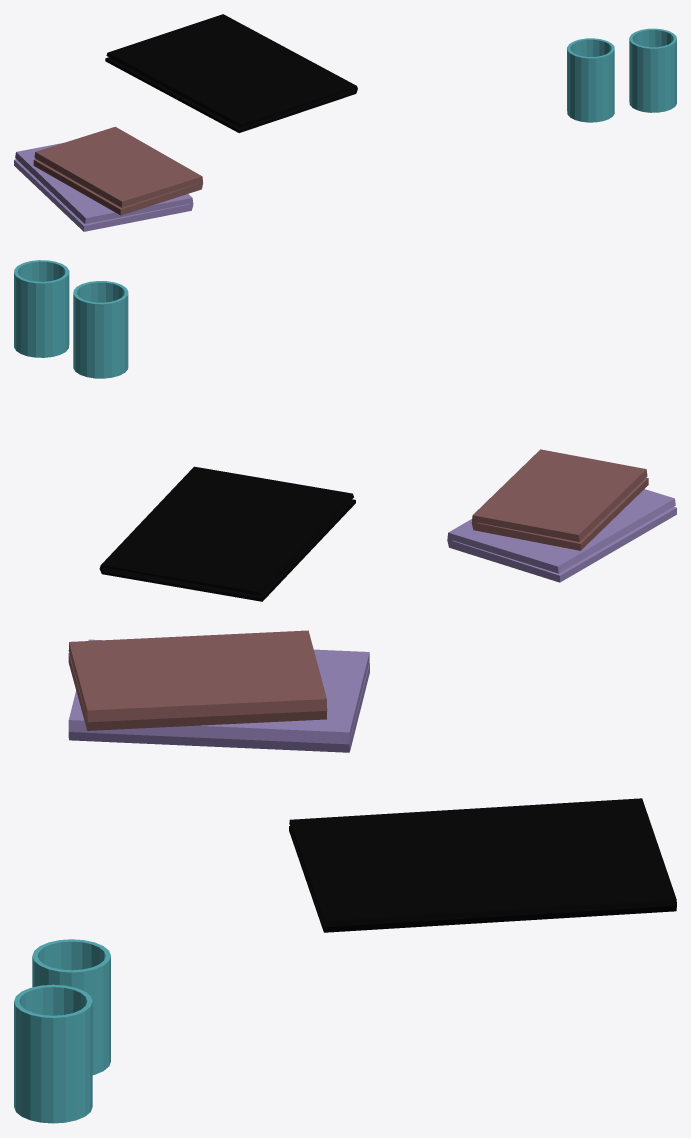
The model's file is desk misc 2.fbx.
3 renders of one model, top to bottom at view 1: azimuth 30°, elevation 25°; view 2: azimuth 150°, elevation 25°; view 3: azimuth 270°, elevation 25°, orthographic. The views are drawn at different scales.
Visible parts, largest first — view 1: books.002, books, books.001, cup, cup.001; view 2: books.002, books, books.001, cup, cup.001; view 3: books.002, books, cup.001, books.001, cup.
Boxes of the visible parts, x1,y1,x2,y2 form: books.002: (105, 14, 357, 132); books: (33, 126, 202, 215); books.001: (14, 143, 193, 231); cup: (567, 38, 614, 122); cup.001: (629, 28, 676, 112); books.002: (99, 466, 355, 601); books: (471, 449, 648, 550); books.001: (447, 489, 676, 582); cup: (73, 281, 128, 378); cup.001: (14, 260, 69, 357); books.002: (289, 798, 676, 932); books: (68, 630, 327, 730); cup.001: (14, 984, 92, 1123); books.001: (68, 639, 369, 752); cup: (32, 939, 110, 1074).
Bounding box in the file's own units: 93.4 × 10.02 × 56.3.
